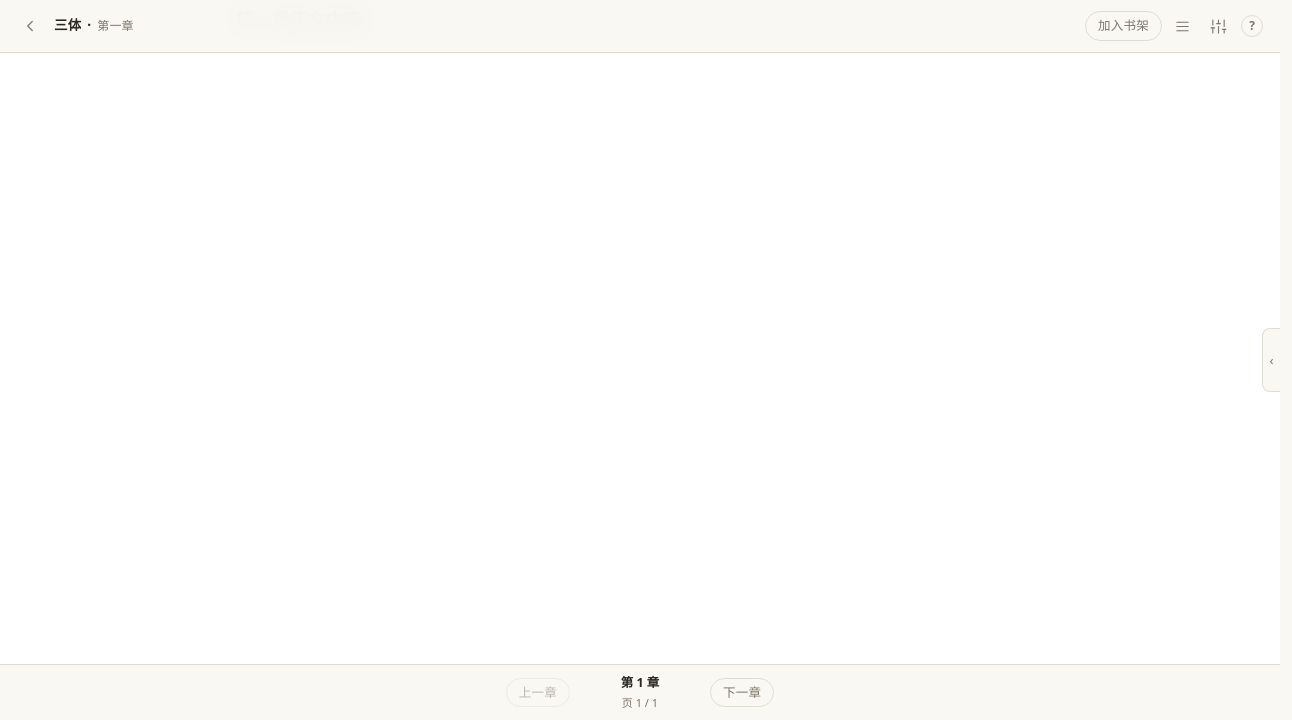
Scenario: ReaderPage (source) reading settings › opens the settings panel from the toolbar
Step 1. Click the button named "阅读设置" → [1218, 26], box [1202,10,1234,42]
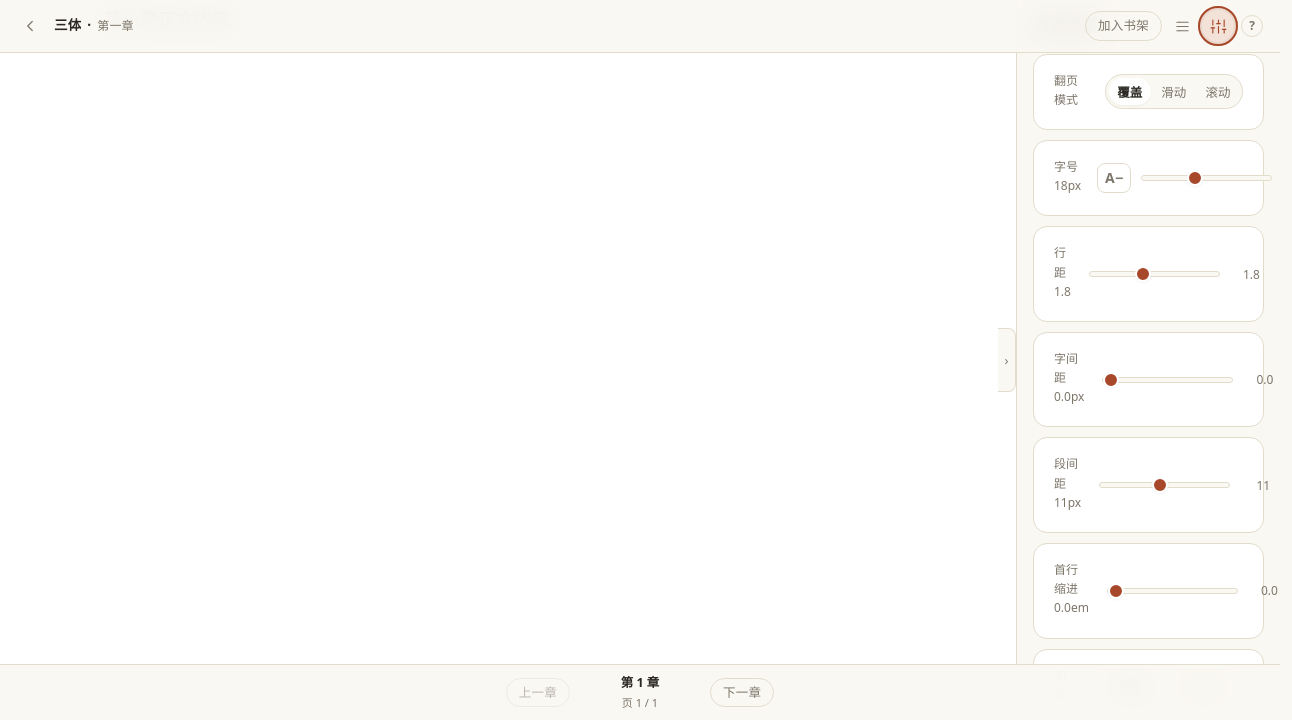
Expected: the text "翻页模式" is shown, [1054,72,1078,108]
Expected: the element with class "reader-settings-panel" is shown, [1016,0,1280,719]
Step 2. Click the button named "阅读设置" → [1218, 26], box [1202,10,1234,42]
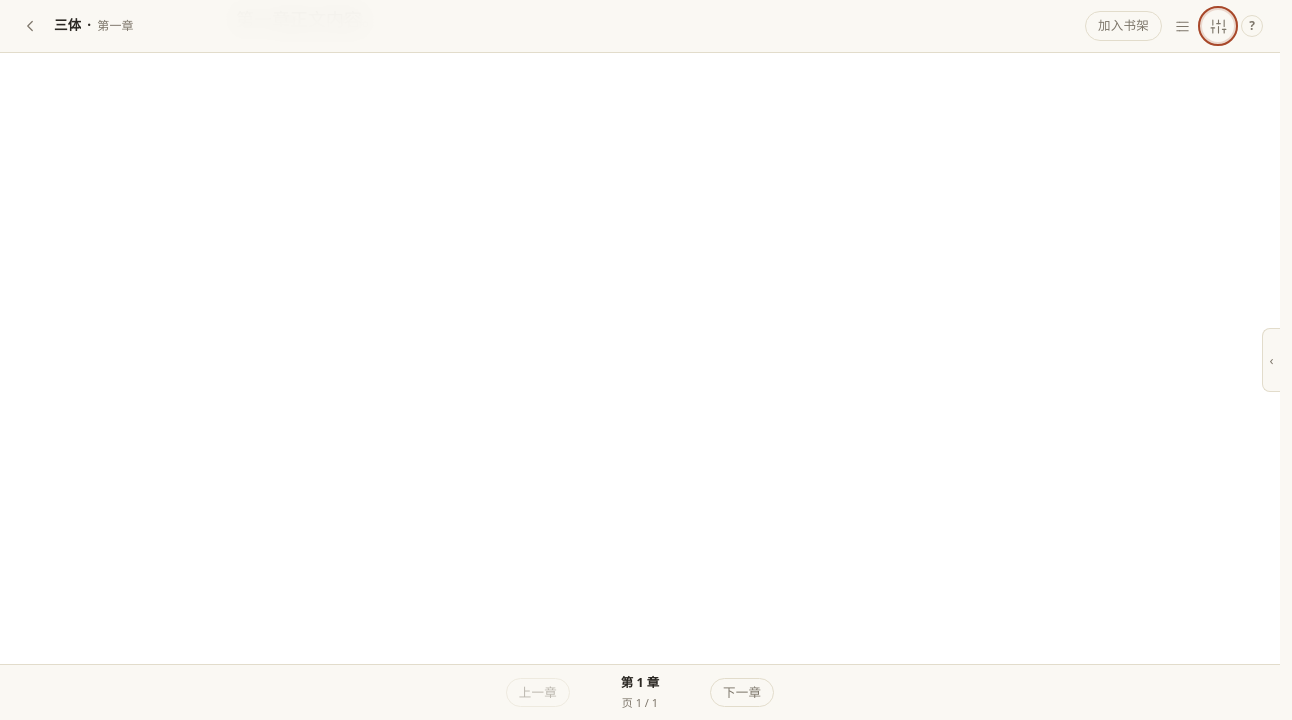
Expected: the element with class "reader-settings-panel" is gone
